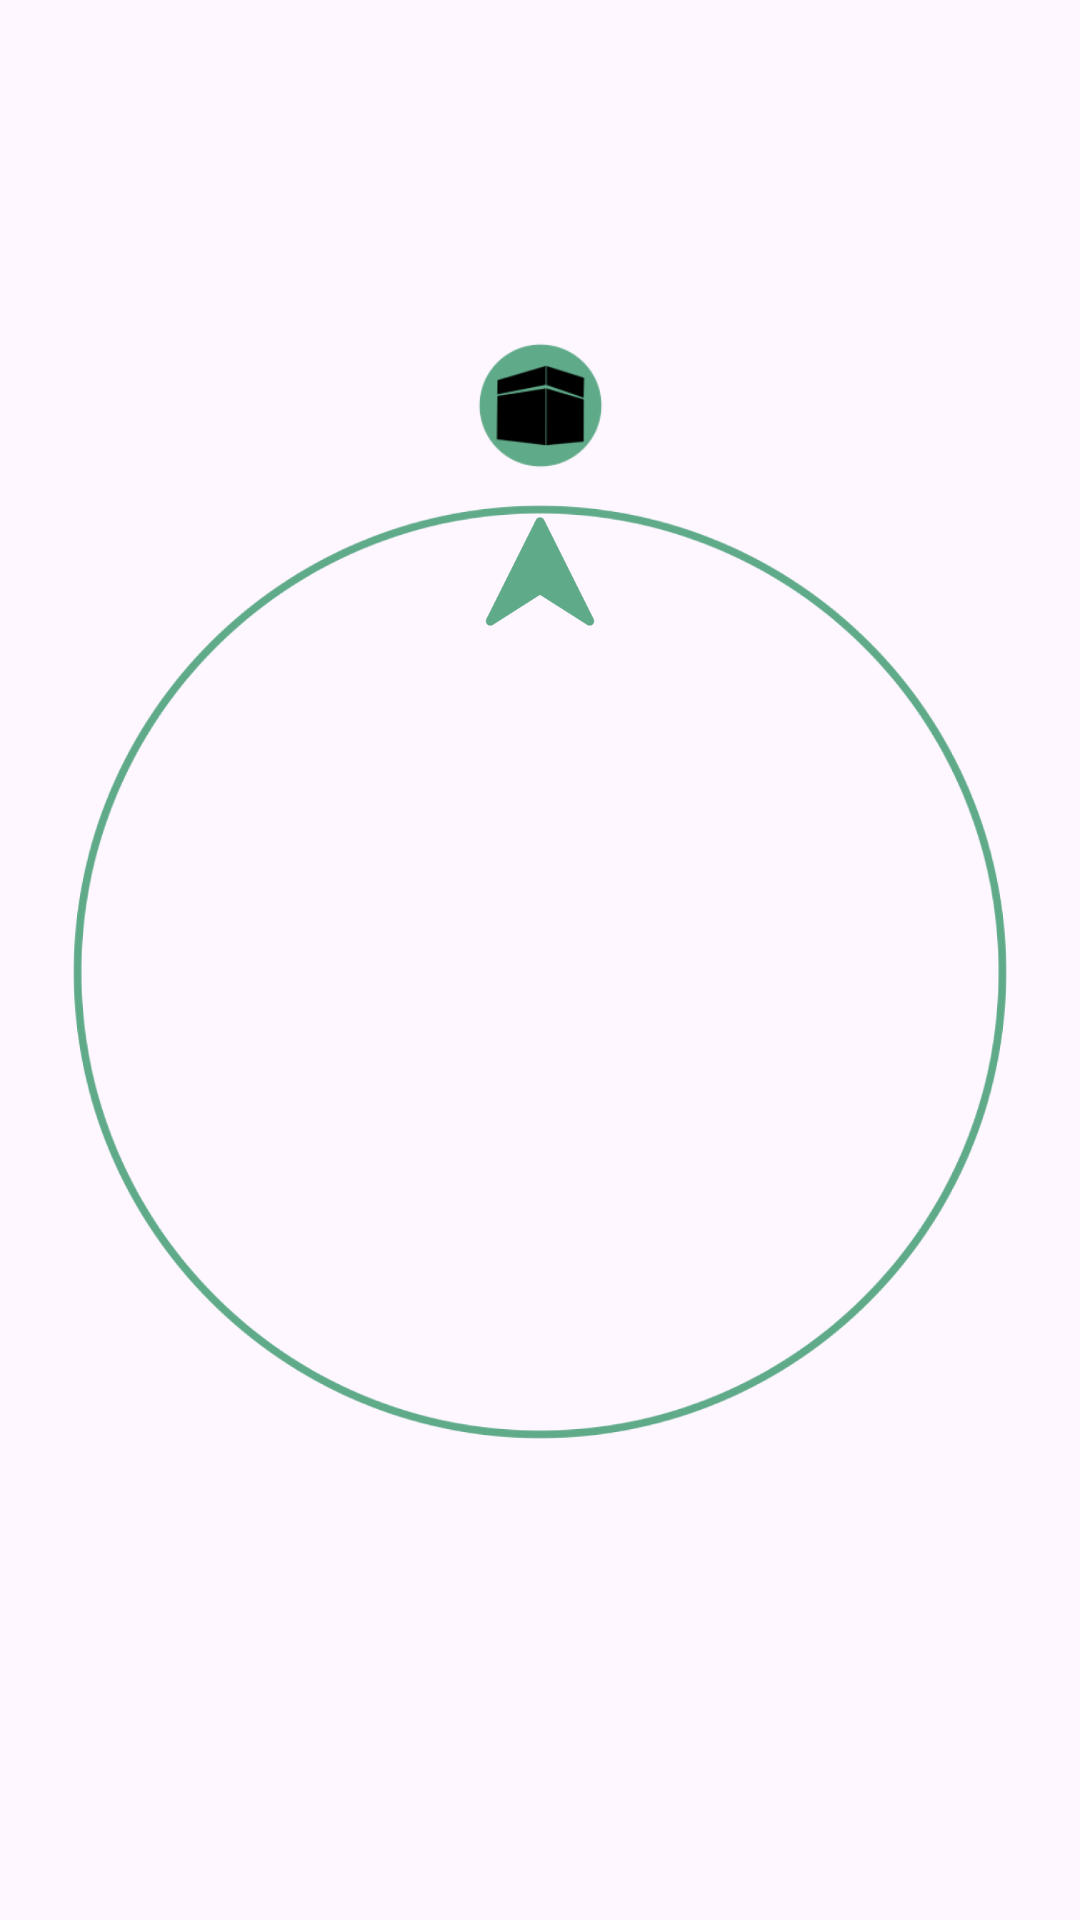

Locate icon controls on the screen. Image size 1080×1920, boxes as (x1, y1, x2, y2).
makkah: (479, 344, 602, 467)
